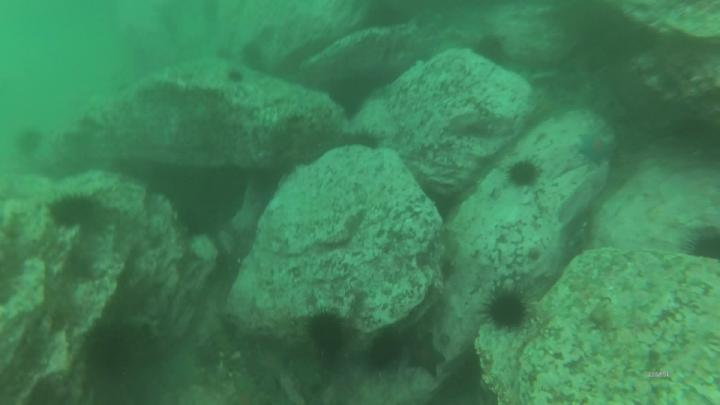echinus: (308, 316, 345, 349), (486, 297, 525, 328), (370, 332, 402, 369), (53, 199, 93, 228), (511, 160, 540, 187)
starfish: (409, 335, 445, 379), (580, 130, 610, 165)
